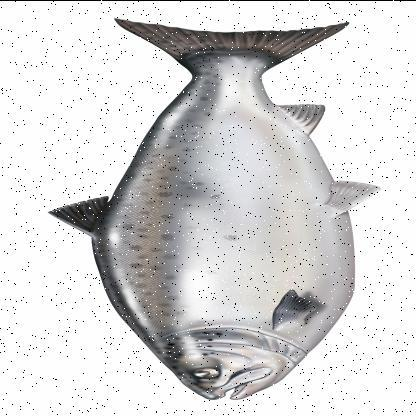fish: (44, 17, 382, 399)
